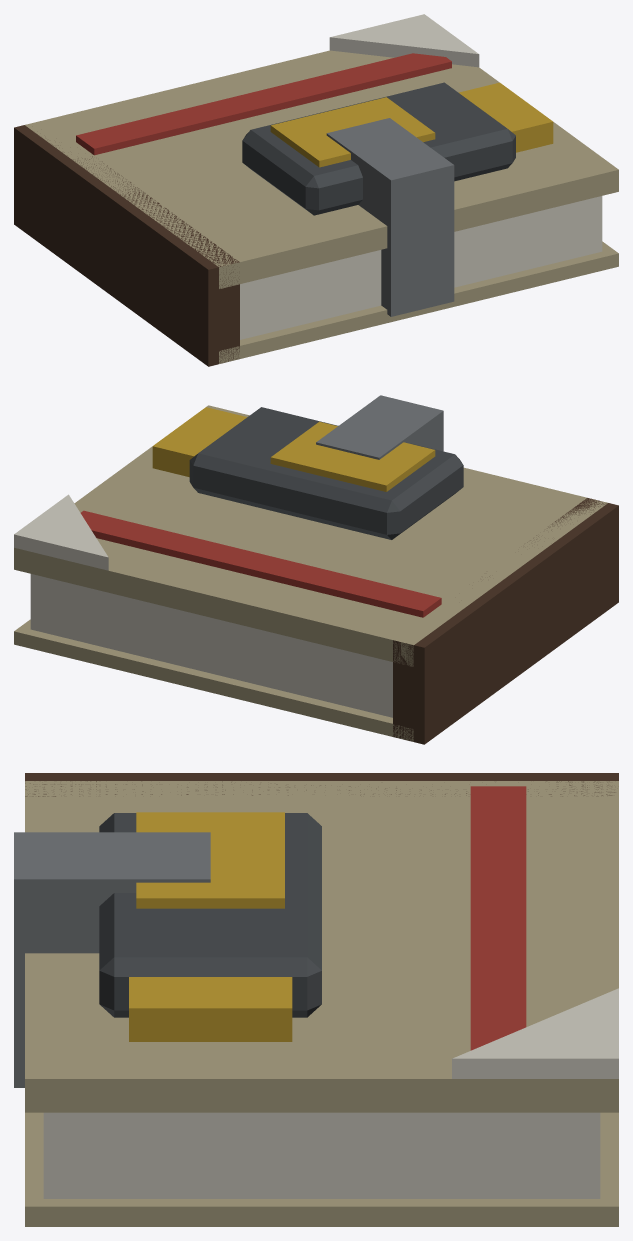
Rendered from item_datashard.glb.
3 renders of one model, top to bottom at view 1: azimuth 30°, elevation 25°; view 2: azimuth 150°, elevation 25°; view 3: azimuth 270°, elevation 25°, orthographic. The views are drawn at different scales.
Visible parts, largest first — view 1: datashard; view 2: datashard; view 3: datashard.
Part boxes in pixels (box(x1,y1,x2,y2)): datashard: box(14, 14, 618, 366); datashard: box(14, 395, 618, 744); datashard: box(14, 773, 618, 1226).
Bounding box in the file's own units: 0.195 × 0.066 × 0.163.
